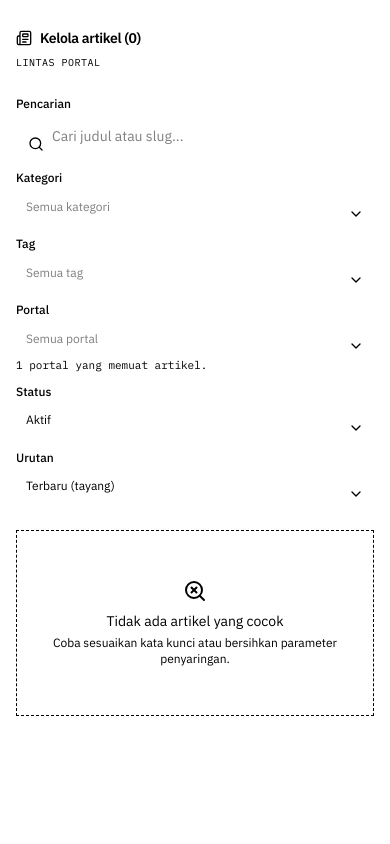
Test: ArticleManager › menampilkan lencana mode dan panel liveblog untuk artikel liveblog
This screenshot has width=390, height=844.
Clear the dropdown labelled "Status": (195, 420) [16,404,374,436]
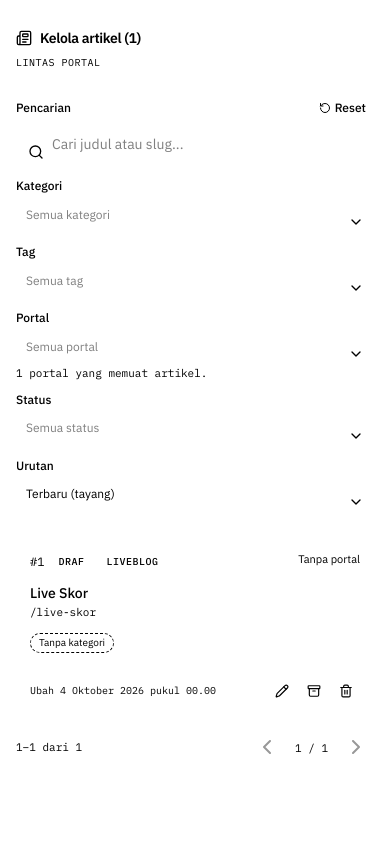
expect the text "Liveblog" is shown: met, box [106,555,158,568]
Click the button named "Ubah artikel Live Skor": (282, 691) [268,677,296,705]
(page scrolled)
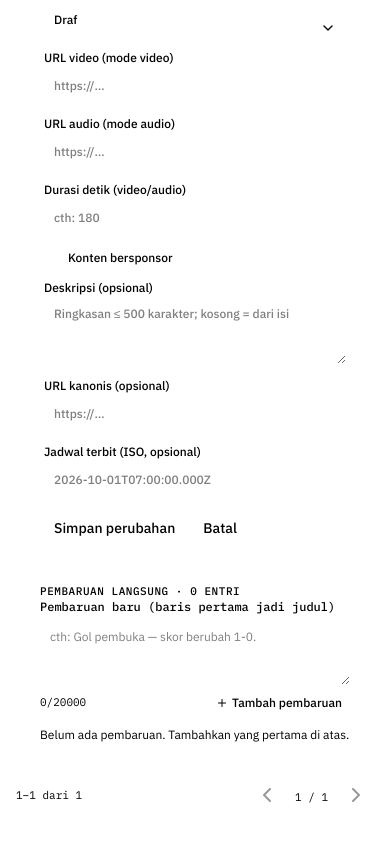
expect the element named "Pembaruan langsung Live Skor" is shown: met, box [28,572,362,755]
